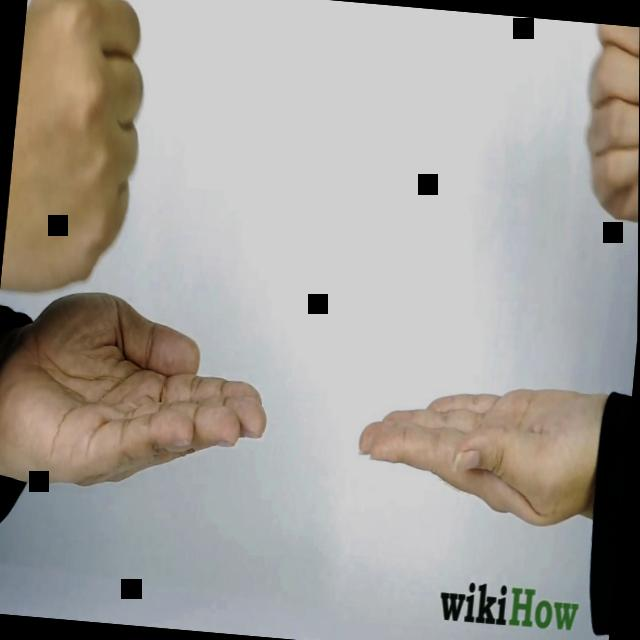Rock: (0, 0, 154, 303), (579, 24, 640, 221)
